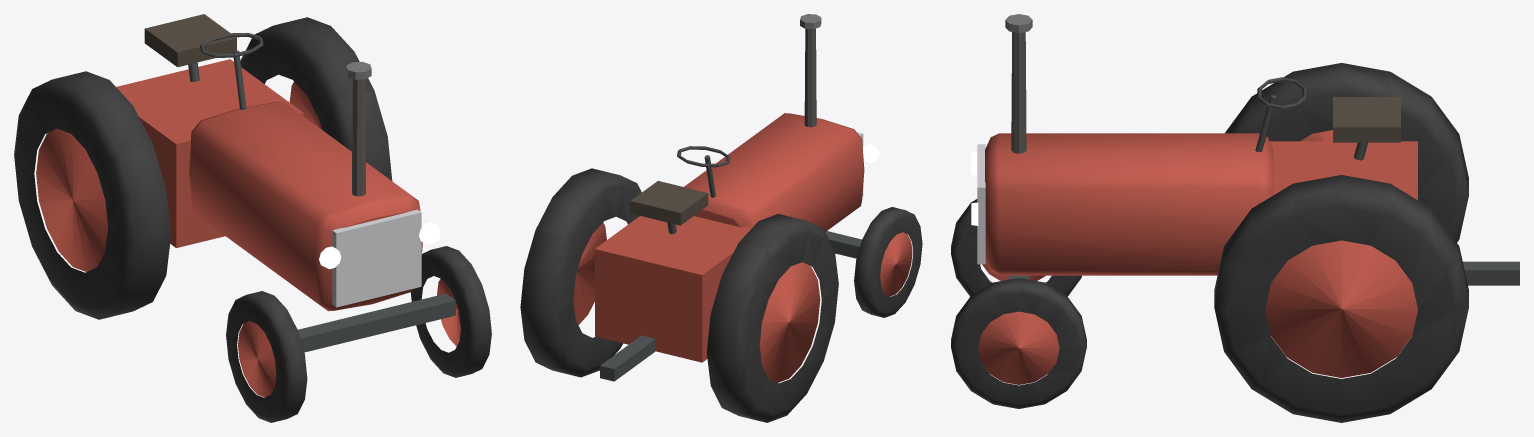
The model's file is parade_tractor_a.glb.
3 renders of one model, left to right at view 1: azimuth 30°, elevation 25°; view 2: azimuth 150°, elevation 25°; view 3: azimuth 270°, elevation 25°, orthographic. The views are drawn at different scales.
Visible parts, largest first — view 1: body, wheel_rr, wheel_rl, wheel_fr, wheel_fl, headlamp_glass; view 2: body, wheel_rr, wheel_rl, wheel_fr; view 3: body, wheel_rl, wheel_fl, wheel_rr, wheel_fr.
Boxes of the visible parts, x1=… form: body: x1=116, y1=14, x2=455, y2=352; wheel_rr: x1=14, y1=71, x2=170, y2=319; wheel_rl: x1=240, y1=17, x2=392, y2=180; wheel_fr: x1=226, y1=291, x2=307, y2=422; wheel_fl: x1=410, y1=246, x2=491, y2=377; headlamp_glass: x1=319, y1=222, x2=440, y2=269; body: x1=595, y1=14, x2=864, y2=381; wheel_rr: x1=706, y1=214, x2=838, y2=422; wheel_rl: x1=520, y1=168, x2=641, y2=377; wheel_fr: x1=854, y1=207, x2=922, y2=317; body: x1=977, y1=14, x2=1519, y2=285; wheel_rl: x1=1214, y1=175, x2=1468, y2=422; wheel_fl: x1=951, y1=278, x2=1086, y2=408; wheel_rr: x1=1225, y1=63, x2=1468, y2=242; wheel_fr: x1=951, y1=199, x2=1081, y2=296.
Size of what is drawn, in the model's own units: 1.87 by 2.2 by 3.35.
